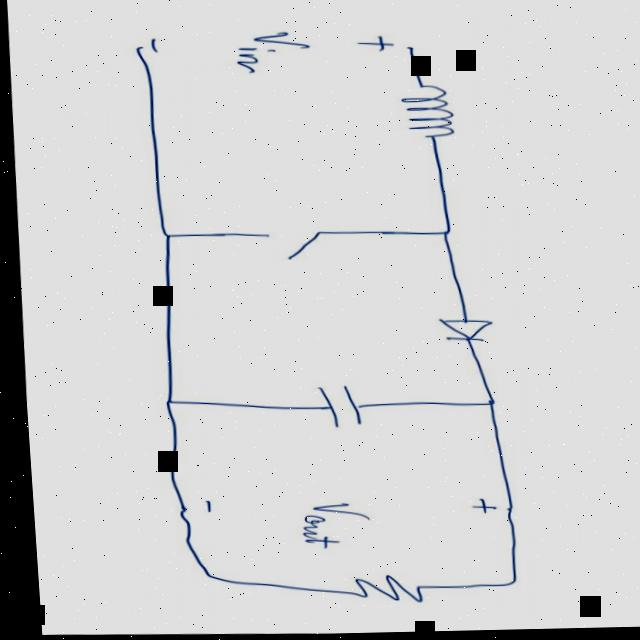capacitor: (279, 378, 378, 438)
diode: (425, 308, 494, 353)
inductor: (379, 76, 463, 149)
resistor: (305, 561, 452, 614)
switch: (210, 219, 373, 268)
